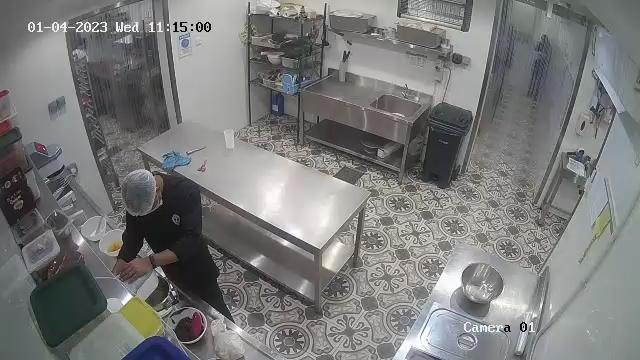no_apron: (141, 177, 219, 289)
